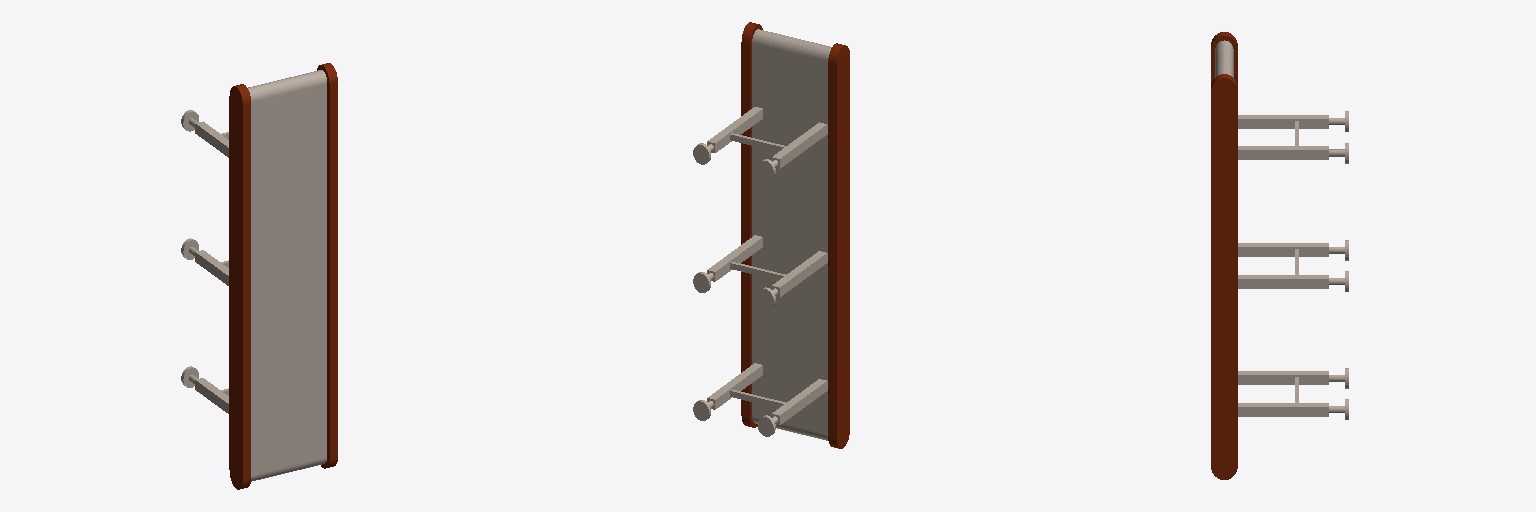
The model's file is converyor.obj.
The picture shows the model from 3 angles: view 1: azimuth 30°, elevation 25°; view 2: azimuth 150°, elevation 25°; view 3: azimuth 270°, elevation 25°; orthographic projection.
Visible parts, largest first — view 1: converyor; view 2: converyor; view 3: converyor.
Part boxes in pixels (x1,y1,x2,y2): converyor: (181, 63, 337, 489); converyor: (693, 22, 849, 448); converyor: (1211, 32, 1348, 479).
Size of the model in its own units: 0.4027 by 1.63 by 0.5061.